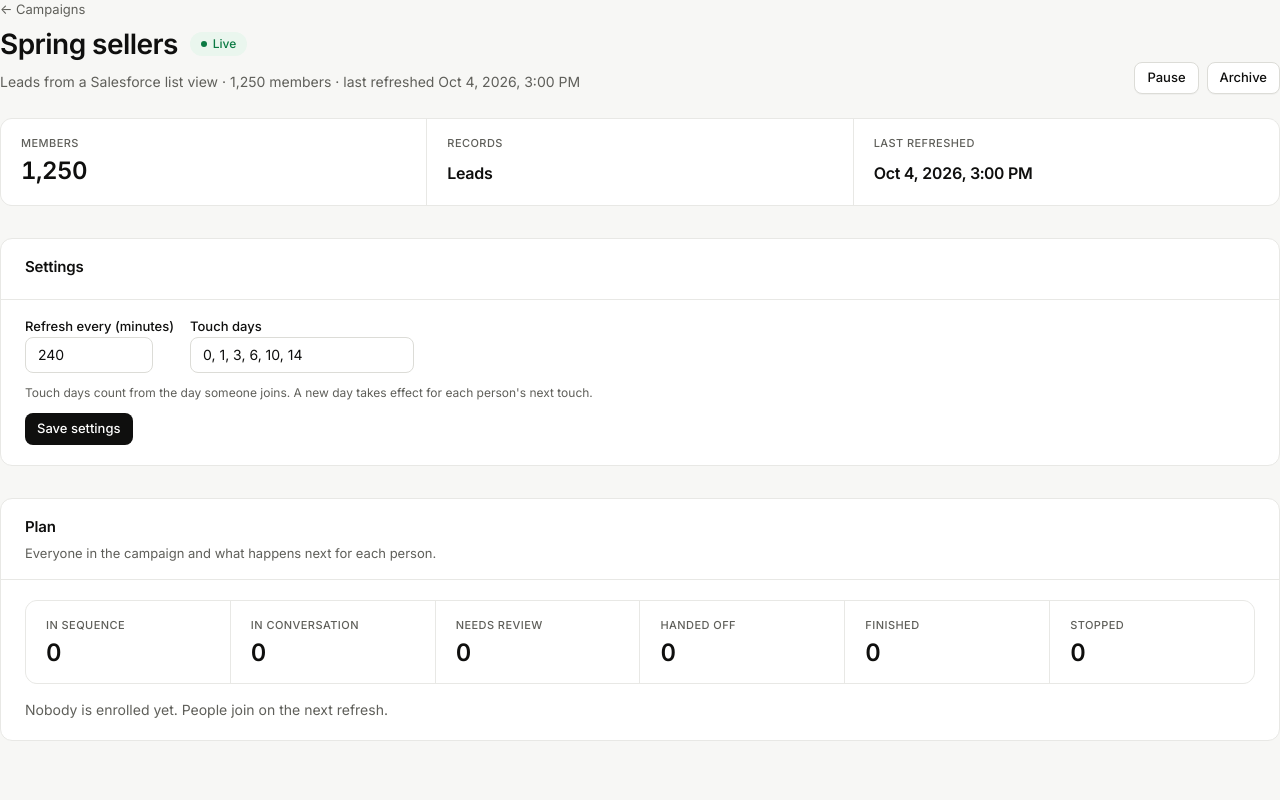
Test: CampaignDetail header › pauses without a dialog
The width and height of the screenshot is (1280, 800).
Click the button "Pause".
click(1166, 78)  # box [1134,62,1198,94]
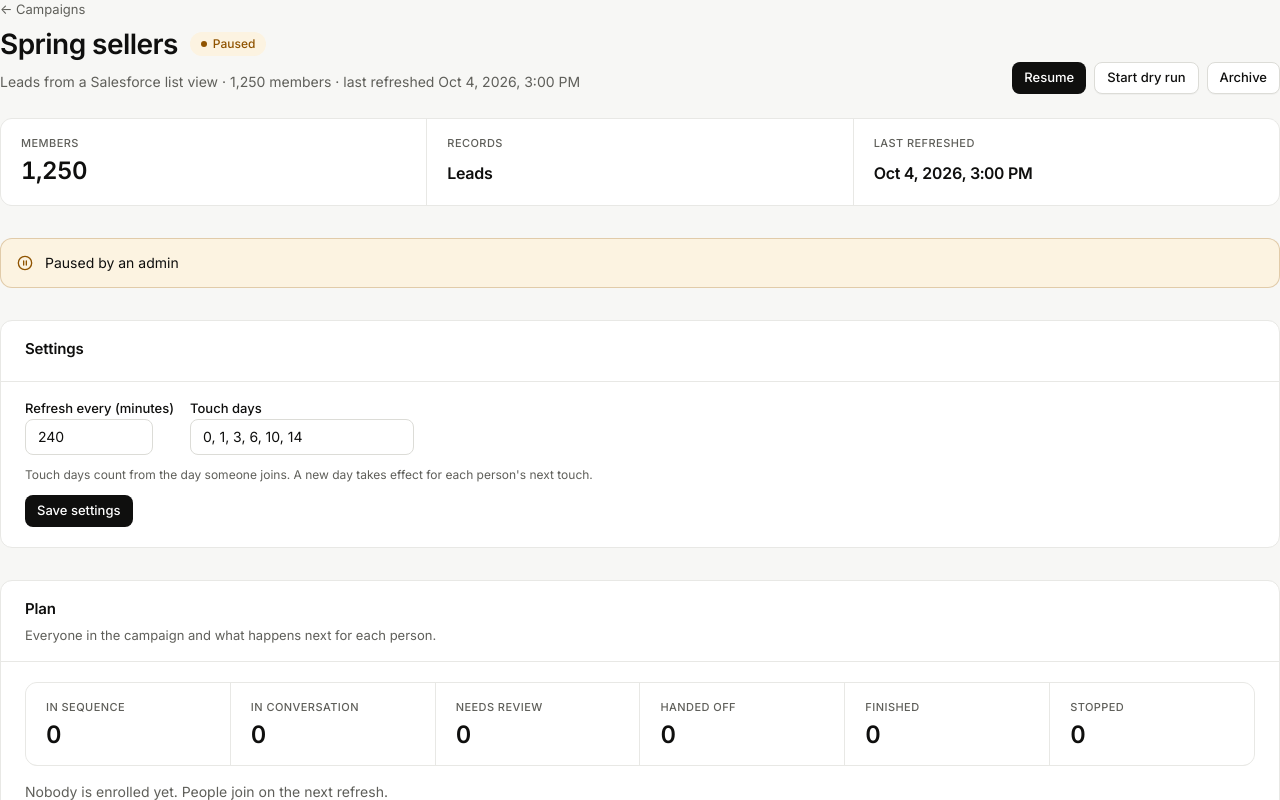
Check: the text "Paused by an admin" is shown, box [0,238,1279,288]
